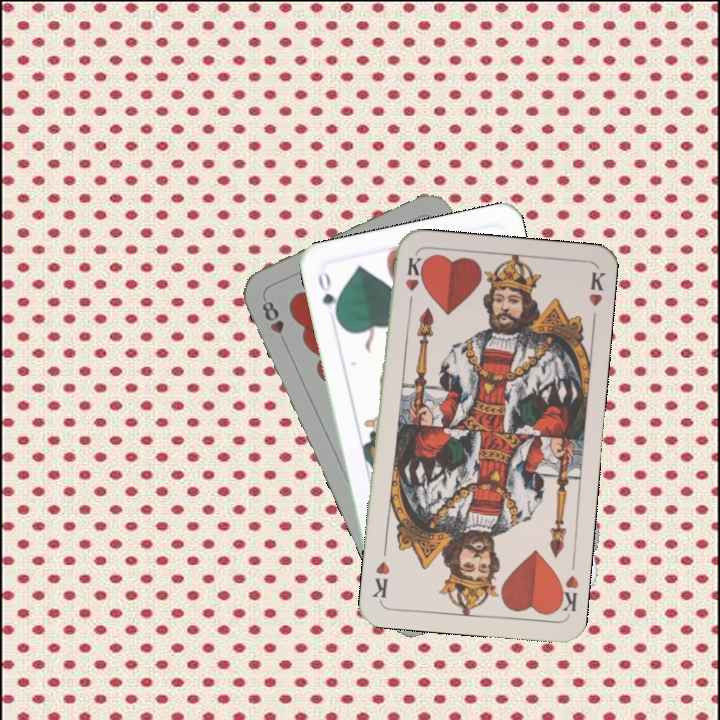GO: (314, 266, 342, 324)
H8: (258, 294, 287, 337)
HK: (552, 571, 581, 617), (401, 253, 423, 312)
